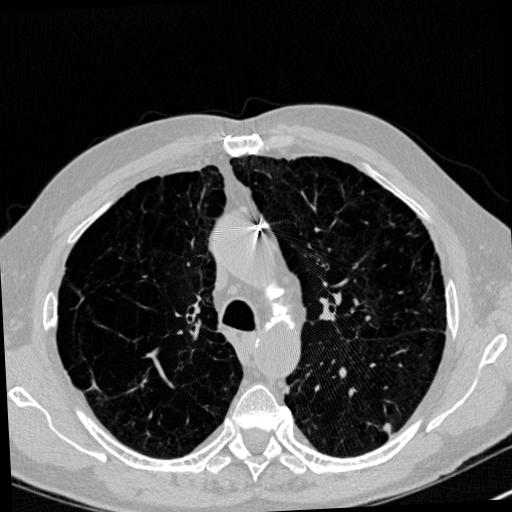nodule: (380, 420, 396, 436)
